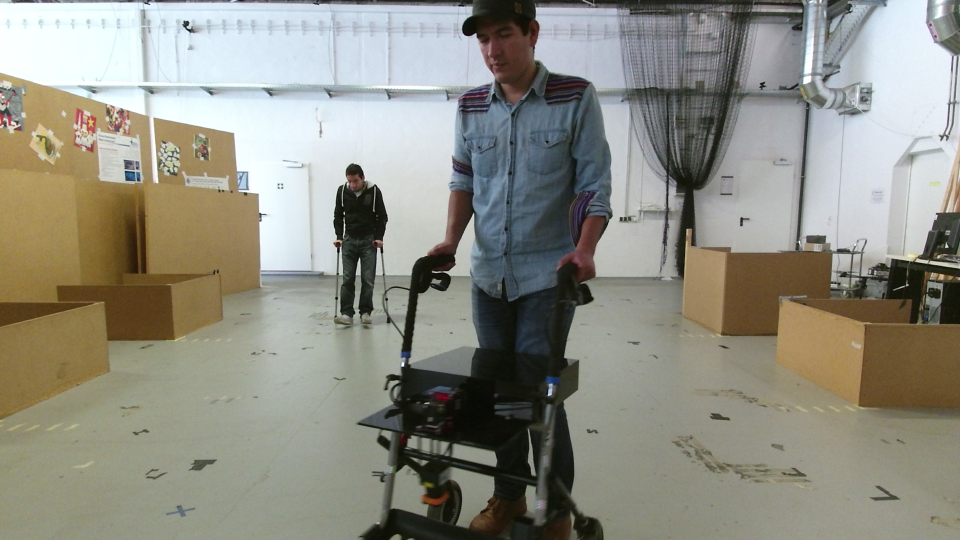crutches: (325, 162, 394, 329)
